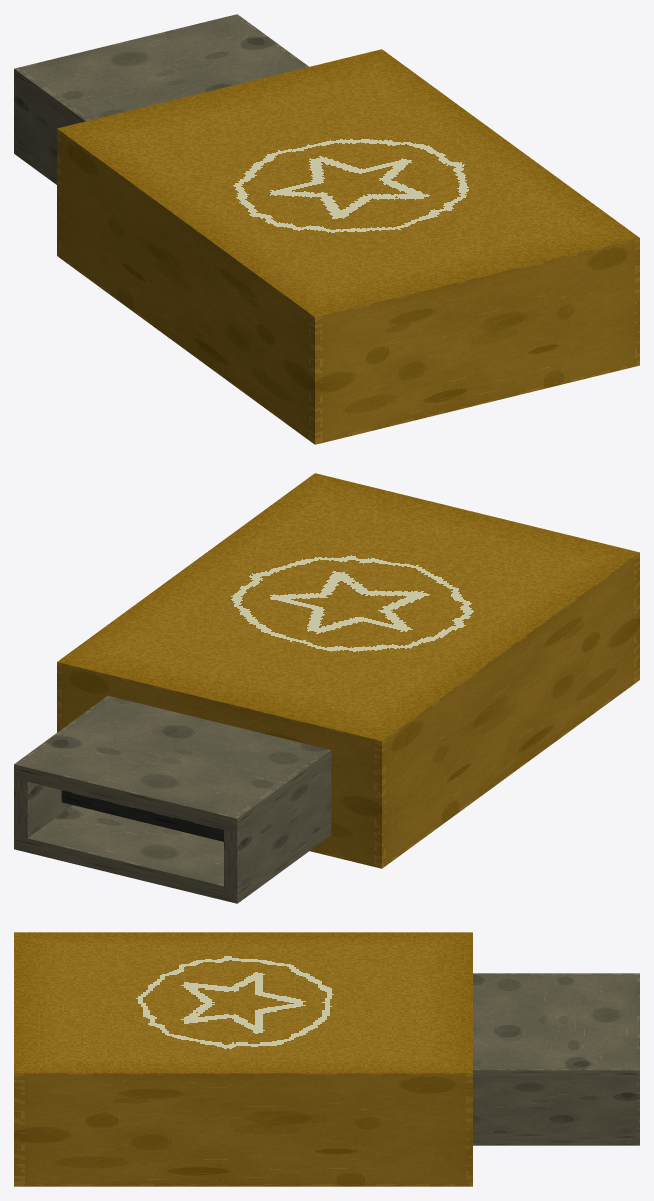
Rendered from retro_pendrive_mostarda.glb.
3 renders of one model, top to bottom at view 1: azimuth 30°, elevation 25°; view 2: azimuth 150°, elevation 25°; view 3: azimuth 270°, elevation 25°, orthographic. The views are drawn at different scales.
Parts seen in each view (by area): view 1: retro_pendrive_mostarda; view 2: retro_pendrive_mostarda; view 3: retro_pendrive_mostarda.
Part boxes in pixels (x1,y1,x2,y2): retro_pendrive_mostarda: (14,14,639,444); retro_pendrive_mostarda: (14,473,639,903); retro_pendrive_mostarda: (14,932,639,1186).
Bounding box in the file's own units: 0.048 × 0.018 × 0.09.
Materials: 4 (4 with a texture image).
